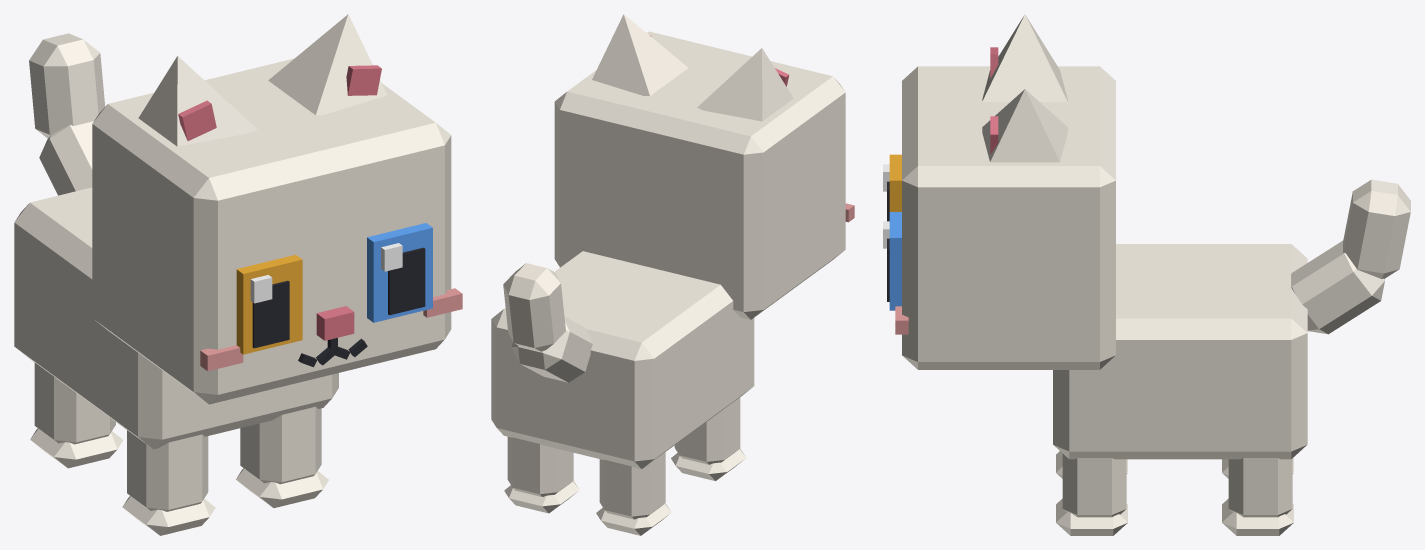
The model's file is CatCafe_Cat_Snow.glb.
3 renders of one model, left to right at view 1: azimuth 30°, elevation 25°; view 2: azimuth 150°, elevation 25°; view 3: azimuth 270°, elevation 25°, orthographic. The views are drawn at different scales.
Parts seen in each view (by area): view 1: CatCafe_Cat_Snow_Head, CatCafe_Cat_Snow_Body, CatCafe_Cat_Snow_Tail, CatCafe_Cat_Snow_LegF2, CatCafe_Cat_Snow_LegF1, CatCafe_Cat_Snow_EarL, CatCafe_Cat_Snow_Eye2, CatCafe_Cat_Snow_Eye1, CatCafe_Cat_Snow_LegB2, CatCafe_Cat_Snow_EarR; view 2: CatCafe_Cat_Snow_Head, CatCafe_Cat_Snow_Body, CatCafe_Cat_Snow_Tail, CatCafe_Cat_Snow_LegB2, CatCafe_Cat_Snow_EarL, CatCafe_Cat_Snow_LegB1, CatCafe_Cat_Snow_EarR, CatCafe_Cat_Snow_LegF2; view 3: CatCafe_Cat_Snow_Head, CatCafe_Cat_Snow_Body, CatCafe_Cat_Snow_Tail, CatCafe_Cat_Snow_LegF1, CatCafe_Cat_Snow_LegB1, CatCafe_Cat_Snow_EarL, CatCafe_Cat_Snow_EarR, CatCafe_Cat_Snow_Eye1, CatCafe_Cat_Snow_Eye2.
Boxes of the visible parts, <box> form: CatCafe_Cat_Snow_Head: <box>92,58,462,404</box>; CatCafe_Cat_Snow_Body: <box>14,187,338,449</box>; CatCafe_Cat_Snow_Tail: <box>29,33,105,195</box>; CatCafe_Cat_Snow_LegF2: <box>122,430,215,535</box>; CatCafe_Cat_Snow_LegF1: <box>236,406,328,507</box>; CatCafe_Cat_Snow_EarL: <box>268,14,387,115</box>; CatCafe_Cat_Snow_Eye2: <box>236,254,302,354</box>; CatCafe_Cat_Snow_Eye1: <box>367,223,432,322</box>; CatCafe_Cat_Snow_LegB2: <box>30,362,123,468</box>; CatCafe_Cat_Snow_EarR: <box>138,56,257,146</box>; CatCafe_Cat_Snow_Head: <box>554,31,854,319</box>; CatCafe_Cat_Snow_Body: <box>491,251,754,469</box>; CatCafe_Cat_Snow_Tail: <box>503,263,592,382</box>; CatCafe_Cat_Snow_LegB2: <box>596,452,671,535</box>; CatCafe_Cat_Snow_EarL: <box>592,14,688,95</box>; CatCafe_Cat_Snow_LegB1: <box>504,437,579,513</box>; CatCafe_Cat_Snow_EarR: <box>697,48,793,121</box>; CatCafe_Cat_Snow_LegF2: <box>671,397,746,481</box>; CatCafe_Cat_Snow_Head: <box>895,66,1115,369</box>; CatCafe_Cat_Snow_Body: <box>1053,244,1307,459</box>; CatCafe_Cat_Snow_Tail: <box>1291,179,1410,334</box>; CatCafe_Cat_Snow_LegF1: <box>1056,454,1127,535</box>; CatCafe_Cat_Snow_LegB1: <box>1222,458,1293,535</box>; CatCafe_Cat_Snow_EarL: <box>982,89,1067,162</box>; CatCafe_Cat_Snow_EarR: <box>982,14,1067,101</box>; CatCafe_Cat_Snow_Eye1: <box>883,212,901,310</box>; CatCafe_Cat_Snow_Eye2: <box>883,154,901,221</box>.
Bounding box in the file's own units: 1 × 1.86 × 1.97.
1 material, 1 textured.
